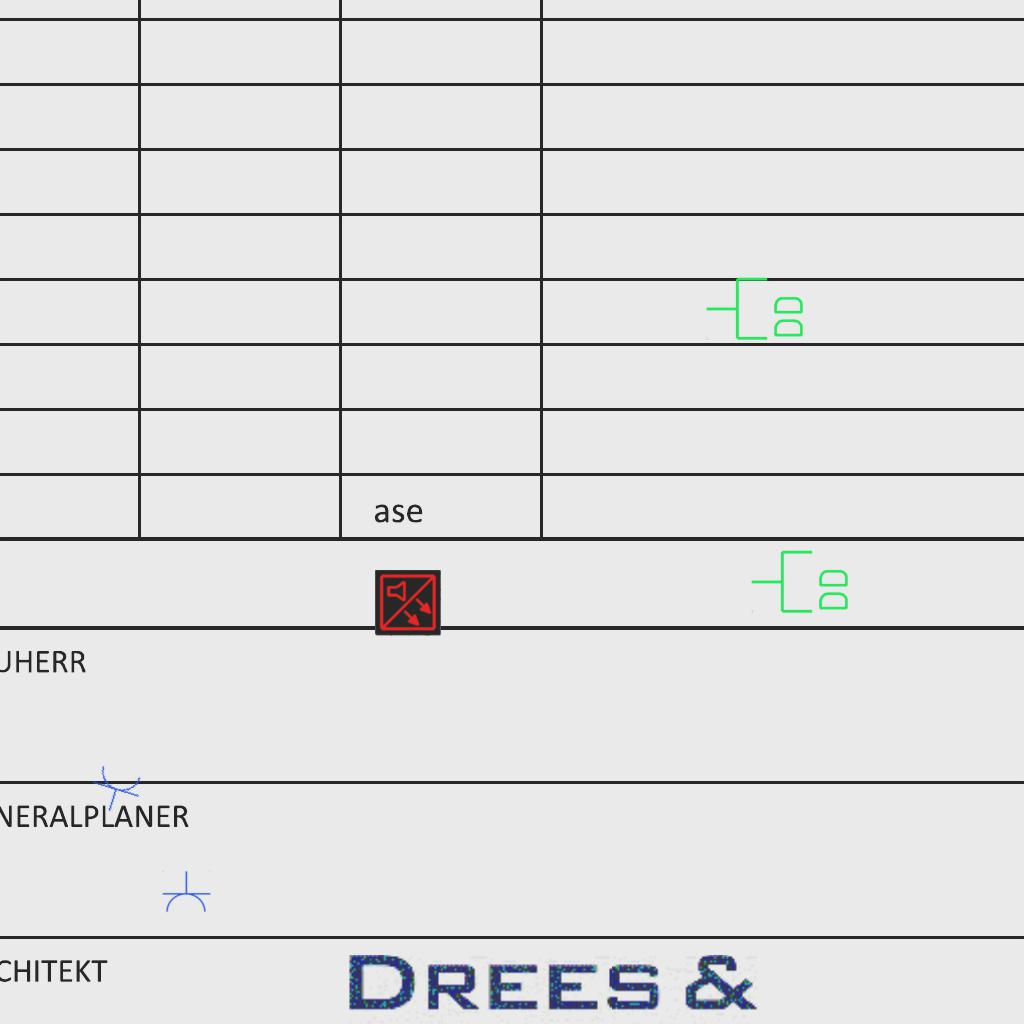Datenanschluss_zweifach: (749, 548, 852, 617), (704, 275, 807, 344)
OKW_Multisensormelder_(Kombination_optischer_Rauch-Kahlenmonoxid_Waerme-Melder): (375, 570, 441, 636)
Schukosteckdose_einfach: (85, 762, 147, 819), (161, 871, 211, 914)
